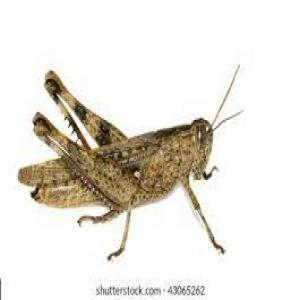locust: (1, 69, 250, 269)
